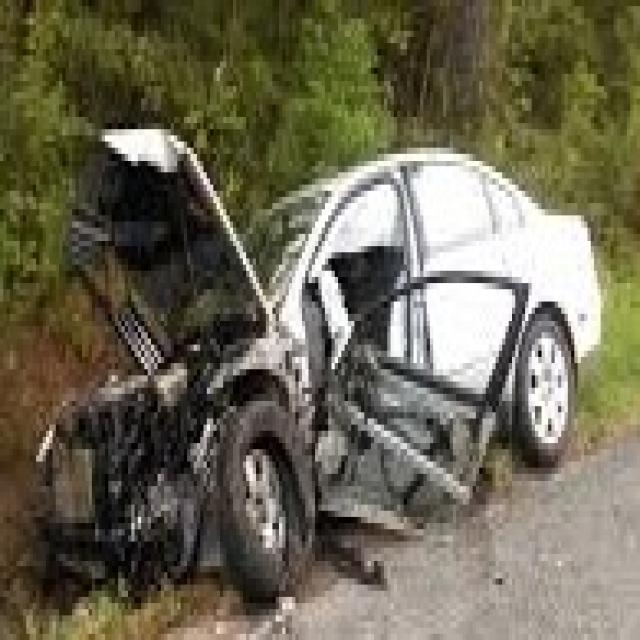severe: (17, 114, 418, 624)
